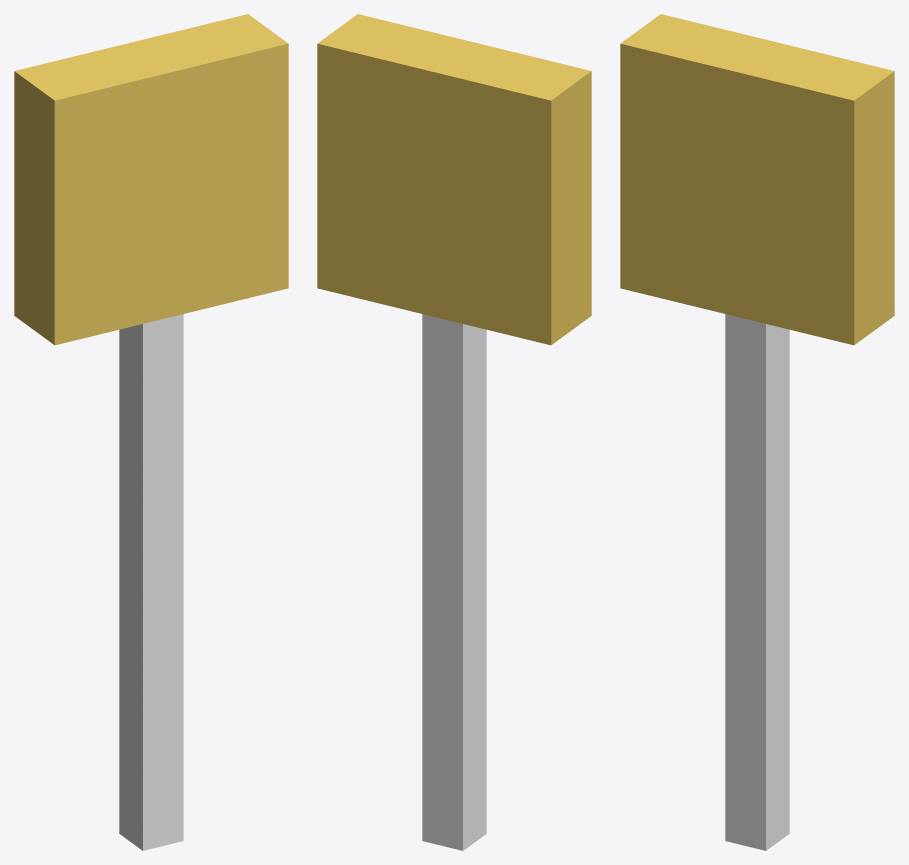
Rendered from CandylandLollypop_04.fbx.
3 views of the same model, side by side, from view 1: azimuth 30°, elevation 25°; view 2: azimuth 150°, elevation 25°; view 3: azimuth 330°, elevation 25° (orthographic).
Parts seen in each view (by area): view 1: CandylandLollypop_04; view 2: CandylandLollypop_04; view 3: CandylandLollypop_04.
Boxes of the visible parts, <box> form: CandylandLollypop_04: <box>14,14,288,850</box>; CandylandLollypop_04: <box>317,14,591,850</box>; CandylandLollypop_04: <box>620,14,894,850</box>.
Bounding box in the file's own units: 0.2013 × 0.6416 × 0.0604.
